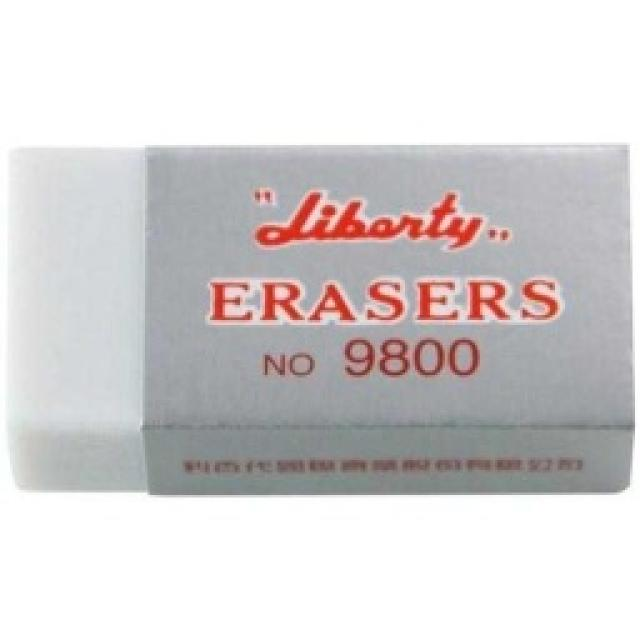Silgi: (4, 143, 635, 497)
